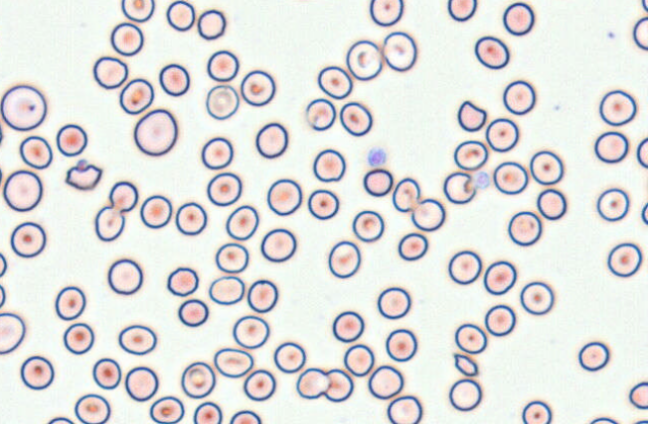PLT: (368, 146, 387, 167), (471, 171, 490, 190)
RBC: (0, 84, 47, 131), (133, 108, 178, 156), (2, 169, 42, 212), (345, 39, 382, 80), (599, 89, 637, 126), (382, 31, 417, 71), (10, 221, 46, 258), (107, 258, 143, 295), (266, 178, 302, 215), (240, 69, 275, 106), (119, 77, 154, 114), (180, 361, 215, 398), (232, 314, 269, 349), (327, 240, 361, 278), (260, 227, 296, 262), (367, 364, 403, 399), (507, 210, 542, 246), (213, 347, 253, 378), (607, 242, 642, 277), (92, 55, 128, 89), (124, 365, 158, 401), (206, 172, 242, 206), (225, 204, 259, 240), (205, 84, 239, 120), (410, 197, 445, 231), (20, 355, 54, 390), (447, 250, 482, 284), (519, 281, 554, 315), (317, 65, 352, 99), (474, 35, 509, 69), (529, 150, 563, 185), (255, 122, 288, 158), (502, 79, 535, 115), (118, 324, 156, 355), (483, 260, 516, 295), (493, 161, 528, 194), (485, 117, 518, 152), (339, 101, 372, 136), (448, 378, 482, 411), (139, 194, 172, 228), (19, 135, 52, 169), (377, 286, 411, 319), (110, 22, 143, 56), (312, 148, 345, 182), (596, 187, 629, 221), (502, 1, 534, 36), (54, 285, 86, 320), (94, 205, 125, 241), (243, 368, 276, 401), (206, 49, 239, 82), (295, 367, 329, 399), (175, 201, 207, 235), (385, 328, 417, 362), (594, 131, 628, 163), (214, 242, 249, 273), (453, 139, 488, 170), (208, 275, 244, 305), (74, 393, 110, 423), (273, 341, 306, 373), (158, 63, 190, 96), (352, 209, 384, 242), (201, 136, 233, 169), (247, 279, 278, 313), (0, 312, 25, 354), (332, 310, 364, 342), (307, 188, 339, 220), (56, 123, 87, 156), (343, 343, 374, 376), (454, 323, 487, 354), (305, 98, 336, 131), (391, 177, 420, 212), (386, 395, 422, 423), (63, 322, 94, 354), (484, 304, 515, 336), (108, 180, 138, 213), (324, 368, 353, 402), (149, 395, 184, 423), (166, 266, 198, 296), (536, 188, 566, 220), (578, 341, 609, 371), (92, 357, 121, 389), (177, 298, 208, 327), (397, 232, 428, 261), (166, 0, 195, 31), (197, 9, 226, 40), (369, 0, 403, 26), (362, 168, 393, 196), (121, 0, 154, 22), (521, 400, 551, 423), (193, 401, 222, 423), (447, 0, 477, 21), (632, 16, 647, 50), (629, 381, 647, 409), (229, 409, 261, 423), (636, 136, 648, 168), (588, 416, 618, 423), (47, 416, 74, 423), (0, 252, 7, 277), (641, 201, 648, 225), (0, 284, 5, 308), (641, 0, 648, 12), (0, 122, 3, 147), (632, 419, 647, 424), (0, 166, 2, 189)
Schistocyte: (443, 172, 477, 204), (65, 165, 103, 191), (458, 100, 487, 132), (452, 353, 480, 378)
